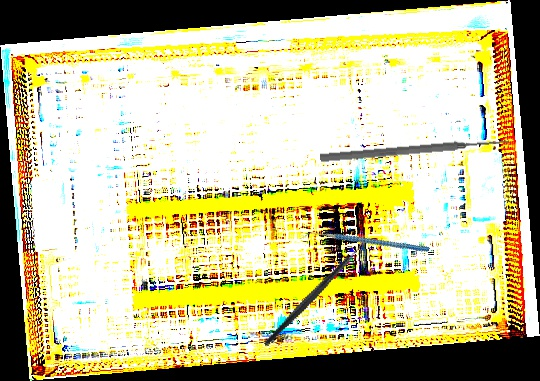Chopper: (239, 233, 389, 348), (299, 193, 431, 294)
Pusher: (319, 135, 510, 165)
